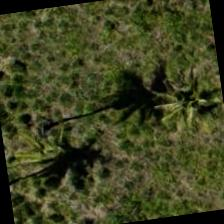Kelapa_Sawit: (2, 108, 104, 210), (135, 44, 223, 146)
